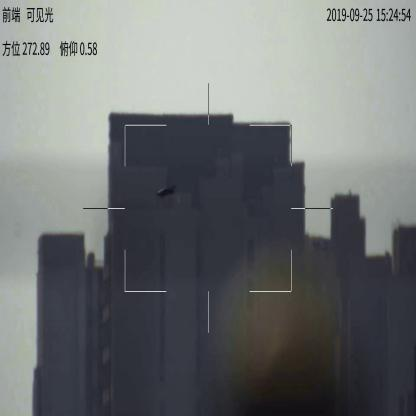uav: (155, 186, 175, 202)
